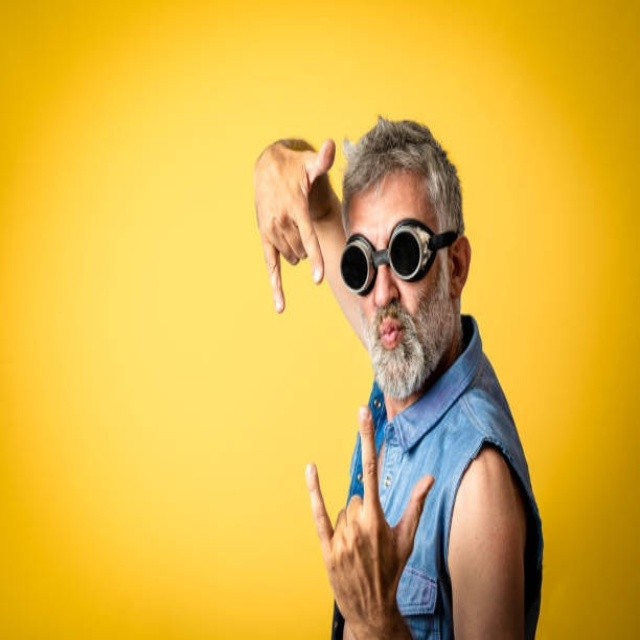Gafas: (339, 219, 457, 297)
Sin_guantes: (304, 402, 435, 640), (252, 135, 336, 313)
Sin_mascara: (364, 311, 414, 372)
